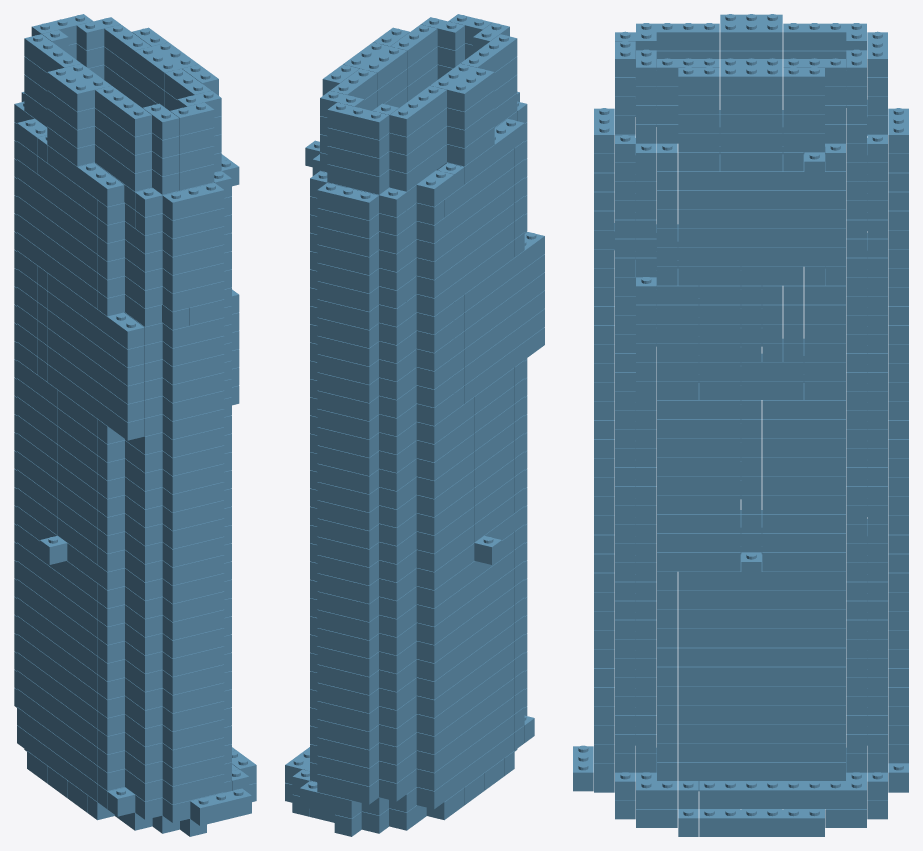
The model's file is 013_basket_L3.glb.
The picture shows the model from 3 angles, left to right: view 1: azimuth 30°, elevation 25°; view 2: azimuth 150°, elevation 25°; view 3: azimuth 270°, elevation 25°; orthographic projection. The views are drawn at different scales.
Size of the model in its own units: 9.98 by 39.13 by 15.98.
